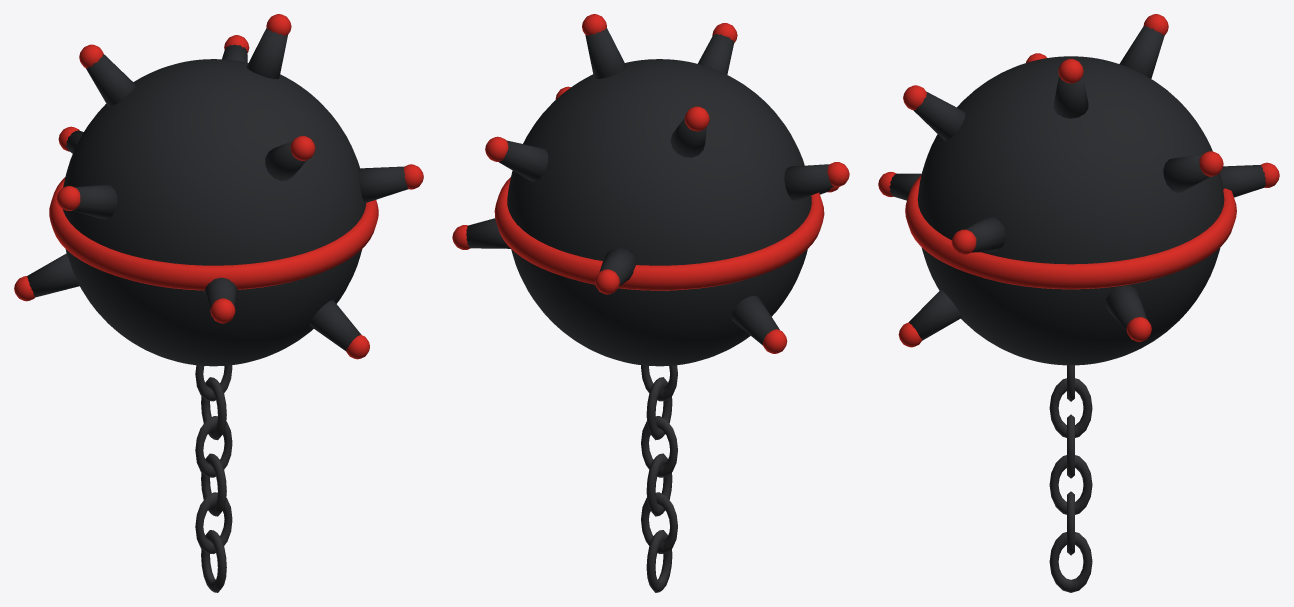
File: Sea_Mine.fbx
3 views of the same model, side by side, from view 1: azimuth 30°, elevation 25°; view 2: azimuth 150°, elevation 25°; view 3: azimuth 270°, elevation 25° (orthographic).
Parts seen in each view (by area): view 1: Mine_Shell, Mine_Warning_Band, Mine_Horn_06, Mine_Horn_02, Mine_Horn_11, Mine_Horn_10, Mine_Horn_01, Mine_Horn_05, Mine_Chain_Link_3, Mine_Chain_Link_5, Mine_Chain_Link_6, Mine_Horn_03 (+4 smaller); view 2: Mine_Shell, Mine_Warning_Band, Mine_Horn_05, Mine_Horn_01, Mine_Horn_10, Mine_Horn_04, Mine_Chain_Link_3, Mine_Chain_Link_5, Mine_Chain_Link_6, Mine_Horn_09, Mine_Horn_03, Mine_Horn_02 (+4 smaller); view 3: Mine_Shell, Mine_Warning_Band, Mine_Horn_11, Mine_Horn_03, Mine_Horn_02, Mine_Chain_Link_6, Mine_Chain_Link_4, Mine_Chain_Link_2, Mine_Horn_04, Mine_Horn_07, Mine_Horn_09, Mine_Horn_01 (+2 smaller).
Part boxes in pixels (box(x1,y1,x2,y2)): Mine_Shell: box(62, 59, 365, 366); Mine_Warning_Band: box(49, 177, 378, 290); Mine_Horn_06: box(358, 166, 408, 203); Mine_Horn_02: box(86, 54, 135, 106); Mine_Horn_11: box(309, 300, 361, 351); Mine_Horn_10: box(27, 253, 79, 297); Mine_Horn_01: box(246, 28, 287, 78); Mine_Horn_05: box(73, 184, 117, 219); Mine_Chain_Link_3: box(195, 416, 232, 477); Mine_Chain_Link_5: box(195, 492, 232, 553); Mine_Chain_Link_6: box(201, 530, 226, 592); Mine_Horn_03: box(265, 141, 306, 180); Mine_Shell: box(507, 59, 811, 366); Mine_Warning_Band: box(494, 177, 824, 290); Mine_Horn_05: box(784, 164, 833, 201); Mine_Horn_01: box(585, 28, 626, 78); Mine_Horn_10: box(731, 295, 779, 345); Mine_Horn_04: box(499, 140, 548, 181); Mine_Chain_Link_3: box(641, 416, 677, 477); Mine_Chain_Link_5: box(641, 492, 677, 553); Mine_Chain_Link_6: box(646, 530, 672, 592); Mine_Horn_09: box(466, 218, 510, 248); Mine_Horn_03: box(697, 34, 733, 74); Mine_Horn_02: box(670, 118, 706, 157); Mine_Shell: box(917, 56, 1224, 365); Mine_Warning_Band: box(905, 175, 1236, 289); Mine_Horn_11: box(909, 290, 961, 340); Mine_Horn_03: box(913, 91, 965, 140); Mine_Horn_02: box(1119, 26, 1164, 78); Mine_Chain_Link_6: box(1049, 532, 1092, 592); Mine_Chain_Link_4: box(1049, 455, 1092, 514); Mine_Chain_Link_2: box(1049, 378, 1092, 437); Mine_Horn_04: box(1163, 154, 1209, 192); Mine_Horn_07: box(1220, 165, 1265, 197); Mine_Horn_09: box(1105, 285, 1146, 331); Mine_Horn_01: box(1053, 76, 1088, 118).
Size of the model in its own units: 1.41 by 2.21 by 1.42.
